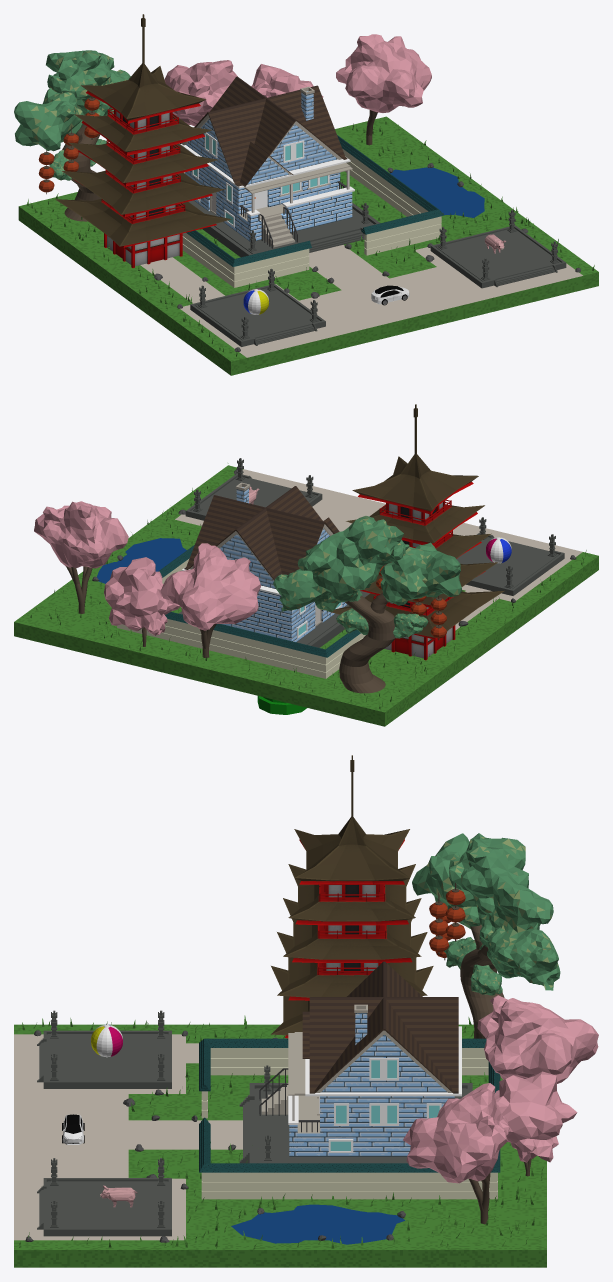
3 views of the same model, one above another, from view 1: azimuth 30°, elevation 25°; view 2: azimuth 150°, elevation 25°; view 3: azimuth 270°, elevation 25° (orthographic). The views are drawn at different scales.
Visible parts, largest first — view 1: Cube.005, Cube.547, VEHICLES_TESLA, OBJRANDOM_BEACHBALL; view 2: Cube.005, Cube.547, UNDERGROUND_PIPES, OBJRANDOM_BEACHBALL; view 3: Cube.005, Cube.547, OBJRANDOM_BEACHBALL.
Boxes of the visible parts, x1,y1,x2,y2 form: Cube.005: (14, 14, 598, 375); Cube.547: (179, 76, 354, 248); VEHICLES_TESLA: (371, 285, 409, 305); OBJRANDOM_BEACHBALL: (243, 289, 268, 314); Cube.005: (14, 404, 598, 726); Cube.547: (181, 482, 347, 642); UNDERGROUND_PIPES: (257, 696, 306, 714); OBJRANDOM_BEACHBALL: (486, 537, 511, 563); Cube.005: (14, 755, 598, 1267); Cube.547: (259, 961, 461, 1156); OBJRANDOM_BEACHBALL: (91, 1024, 122, 1057).
Bounding box in the file's own units: 4528 × 3273 × 4389.
38 materials, 6 textured.
